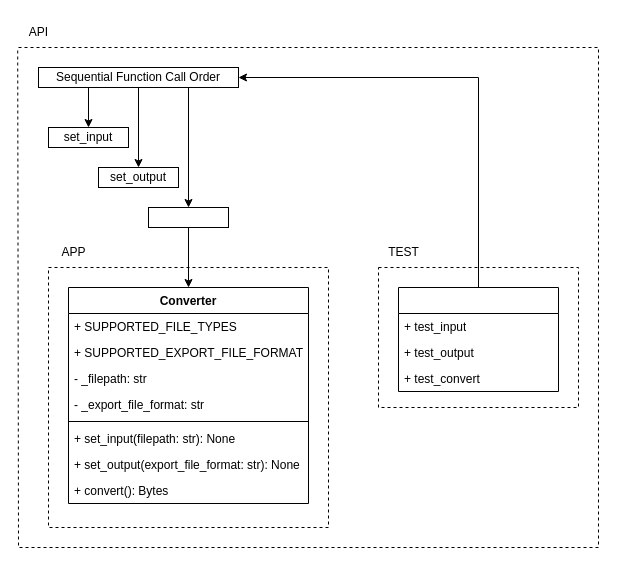
This 617x566 diagram has some shape labels left out. Here are the shapes that lost their labels. From the top down, the box of each, then its label:
(148, 206, 228, 228): convert
(398, 286, 558, 392): TestConverter
